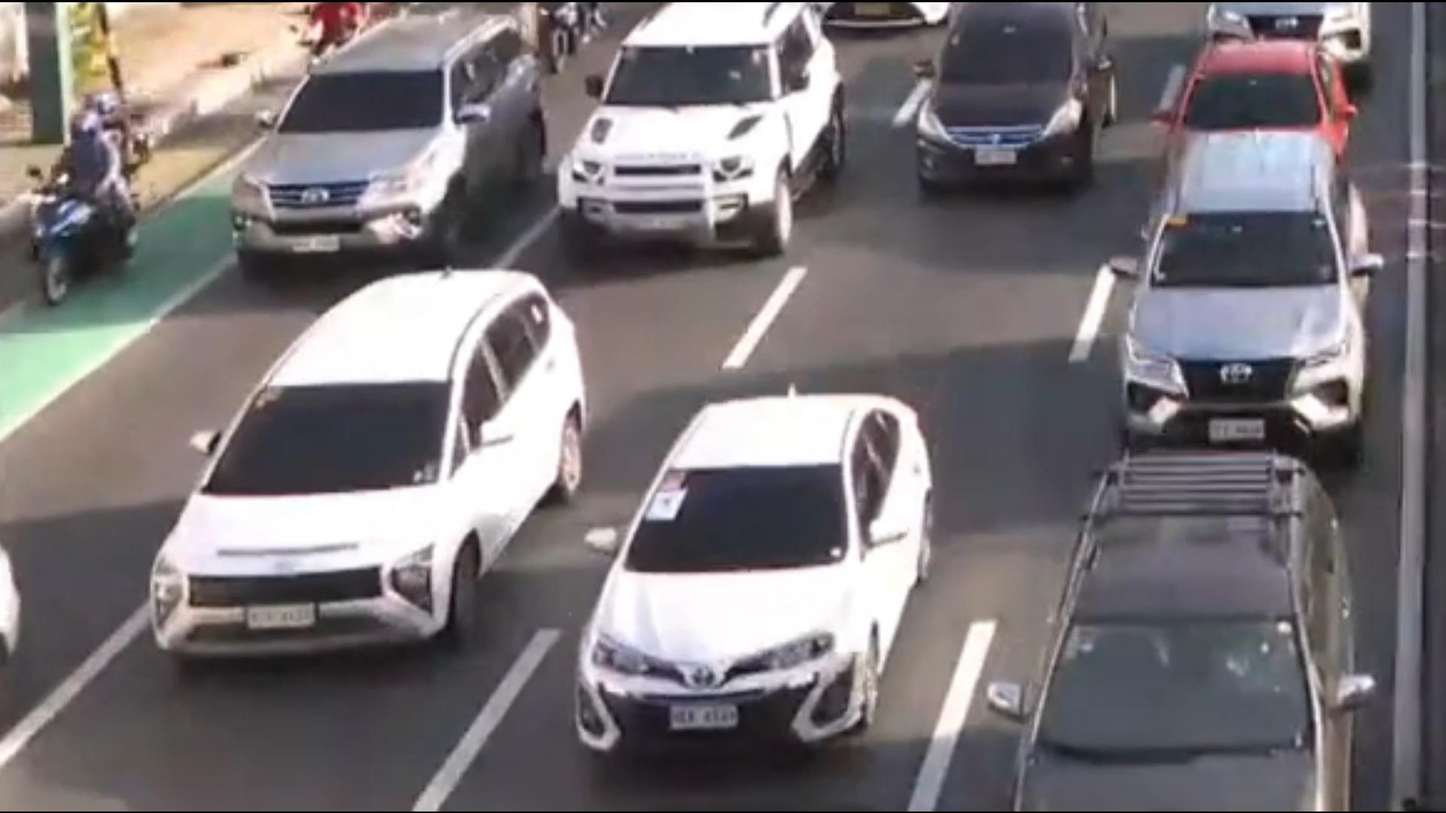Motorcycle: (27, 90, 155, 309)
SUV: (146, 263, 591, 670), (981, 449, 1379, 813), (1106, 129, 1388, 452), (226, 12, 549, 280), (556, 1, 842, 259), (917, 0, 1119, 194)
Sedan: (569, 387, 931, 762), (1151, 37, 1356, 193)
